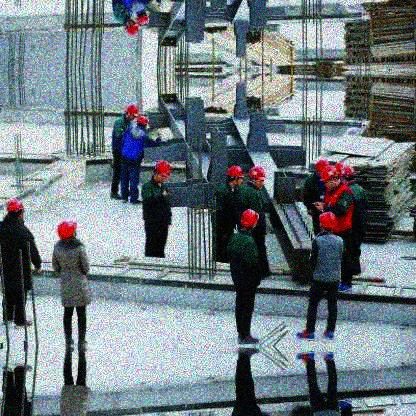helmet: (151, 159, 172, 183), (58, 219, 78, 241), (318, 211, 336, 232), (322, 165, 338, 188), (249, 166, 266, 186), (8, 200, 25, 218), (227, 165, 241, 185), (124, 105, 139, 122), (127, 18, 139, 37)
